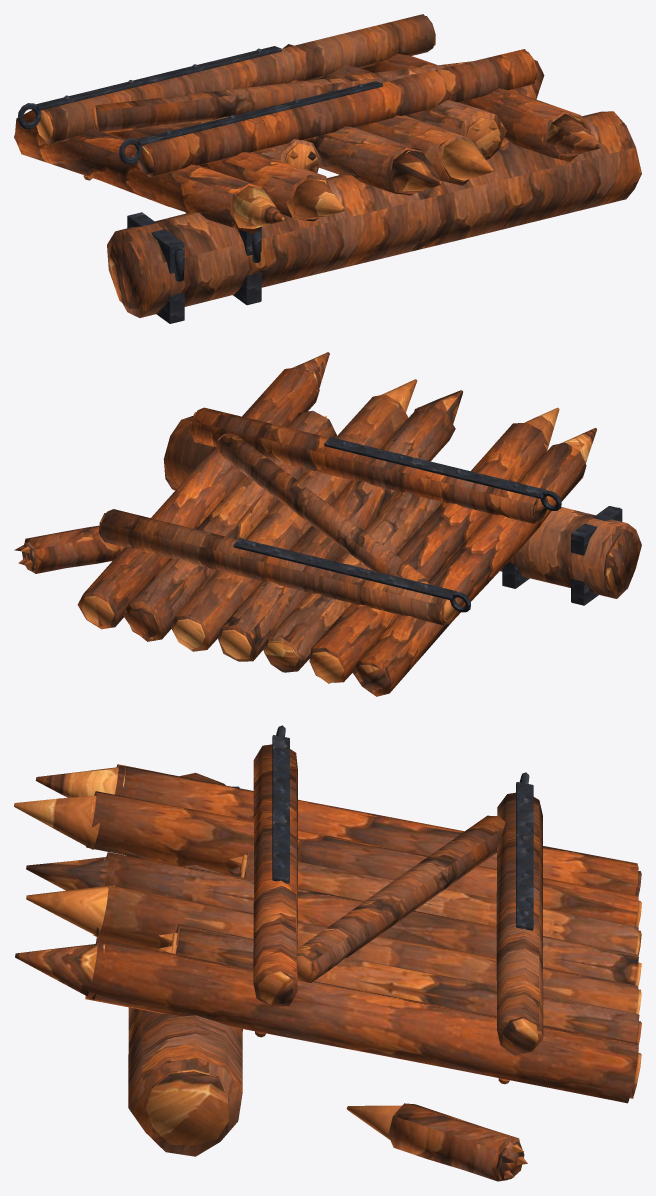
Rendered from ro_gate_wing_broken.glb.
3 renders of one model, top to bottom at view 1: azimuth 30°, elevation 25°; view 2: azimuth 150°, elevation 25°; view 3: azimuth 270°, elevation 25°, orthographic. The views are drawn at different scales.
Parts seen in each view (by area): view 1: model; view 2: model; view 3: model.
Boxes of the visible parts, bbox=[...] form: model: bbox=[14, 14, 641, 323]; model: bbox=[14, 352, 641, 696]; model: bbox=[14, 725, 641, 1181].
Size of the model in its own units: 2.12 by 0.5192 by 1.77.
10 materials, 10 textured.
